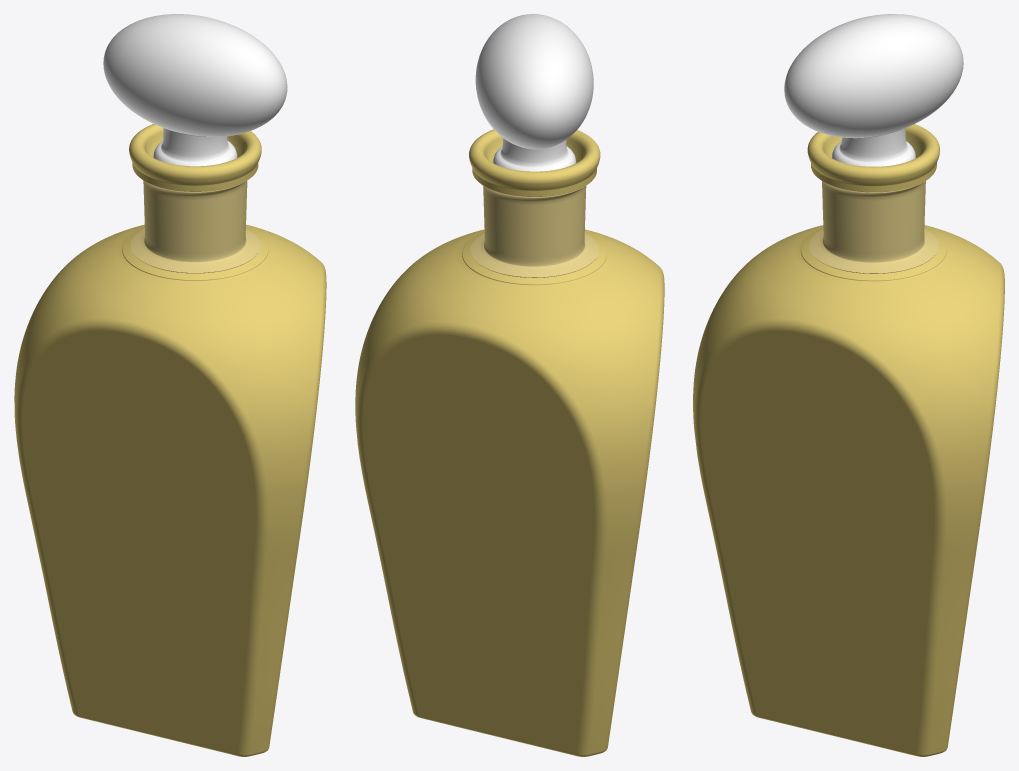
File: bottle2.glb
The picture shows the model from 3 angles, left to right: view 1: azimuth 30°, elevation 25°; view 2: azimuth 150°, elevation 25°; view 3: azimuth 270°, elevation 25°; orthographic projection.
Visible parts, largest first — view 1: botella-glengoyne, tapa-gleygoyne, botella-glengoyne-aro; view 2: botella-glengoyne, tapa-gleygoyne, botella-glengoyne-aro; view 3: botella-glengoyne, tapa-gleygoyne, botella-glengoyne-aro.
Part boxes in pixels (x1,y1,x2,y2): botella-glengoyne: (14, 124, 326, 756); tapa-gleygoyne: (103, 14, 287, 166); botella-glengoyne-aro: (130, 179, 260, 273); botella-glengoyne: (355, 129, 664, 756); tapa-gleygoyne: (475, 14, 593, 171); botella-glengoyne-aro: (470, 185, 598, 277); botella-glengoyne: (693, 124, 1004, 756); tapa-gleygoyne: (784, 14, 963, 166); botella-glengoyne-aro: (809, 180, 938, 273).
Bounding box in the file's own units: 0.995 × 2.24 × 0.9195.
